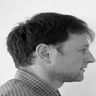ear: (31, 39, 59, 68)
